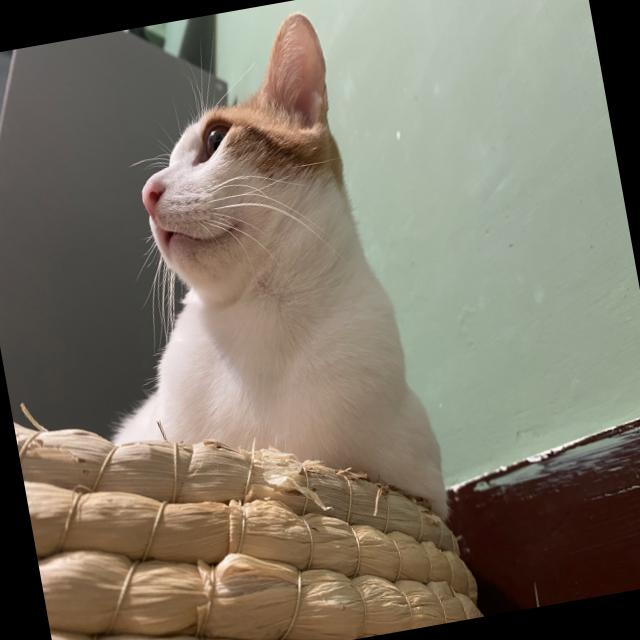cat1: (101, 0, 448, 550)
